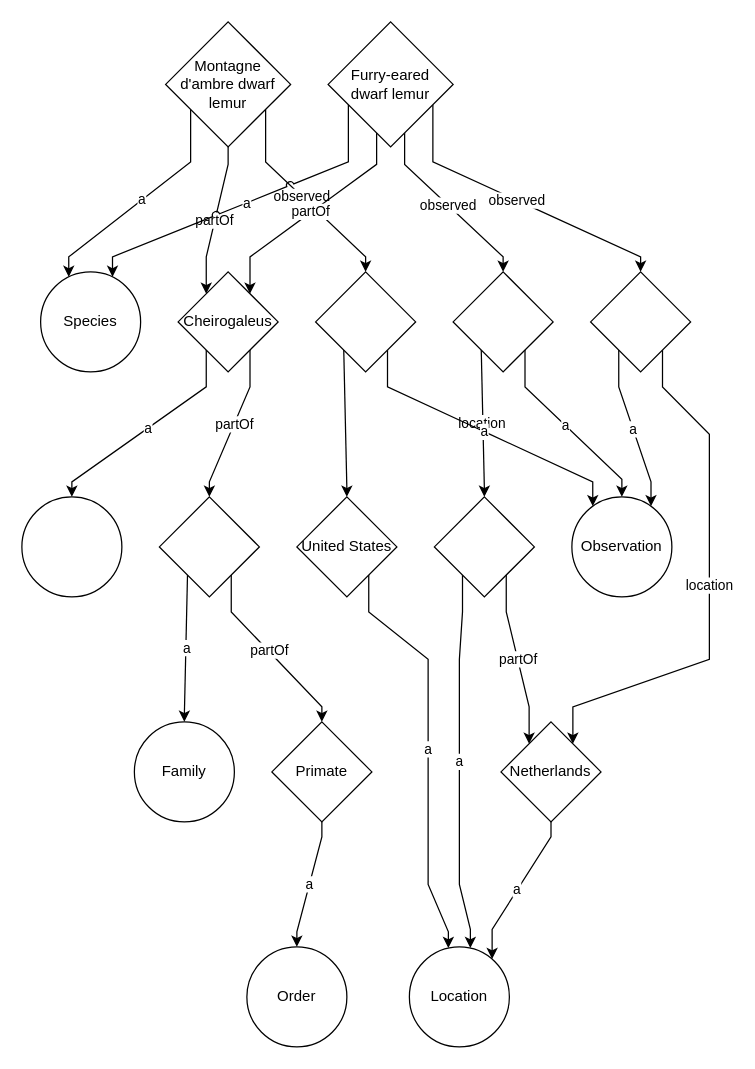
The diagram is 755 pixels wide and 1069 high, and some of its shapes have lost their labels. The shapes that lost their labels are listed below. From the top down, each one's centre as x and y in pixels, then its label:
At (365,321): "obs3".
At (502,321): "obs1".
At (640,321): "obs2".
At (71,546): "Genus".
At (208,546): "Cheiro galeidae".
At (483,546): "Amsterdam".
